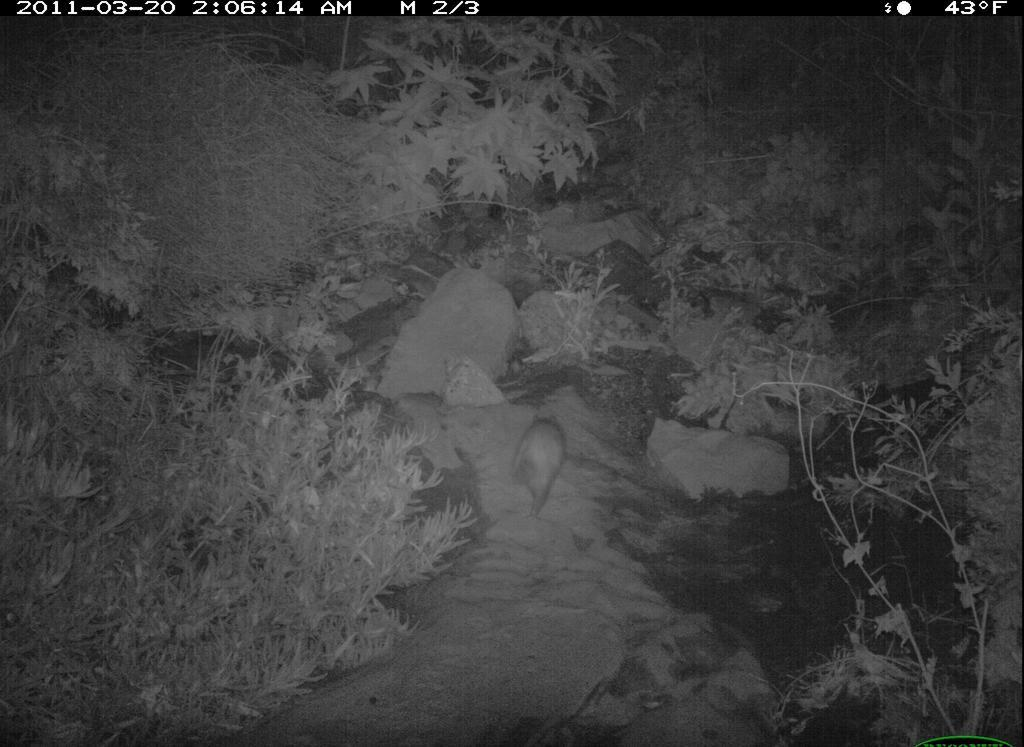opossum: (506, 387, 605, 546)
